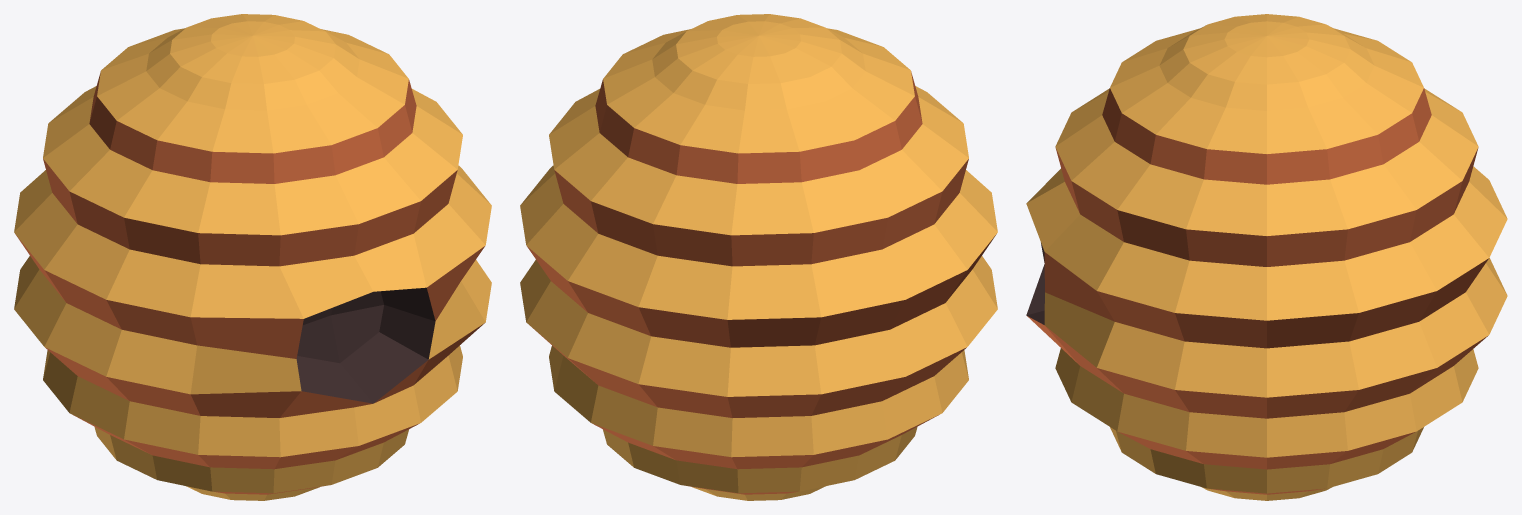
Rendered from Panal.fbx.
3 views of the same model, side by side, from view 1: azimuth 30°, elevation 25°; view 2: azimuth 150°, elevation 25°; view 3: azimuth 270°, elevation 25° (orthographic).
Parts seen in each view (by area): view 1: Sphere; view 2: Sphere; view 3: Sphere.
Part boxes in pixels (x1,y1,x2,y2): Sphere: (14, 14, 491, 500); Sphere: (520, 14, 997, 500); Sphere: (1026, 14, 1507, 500).
Size of the model in its own units: 197 by 200 by 197.
